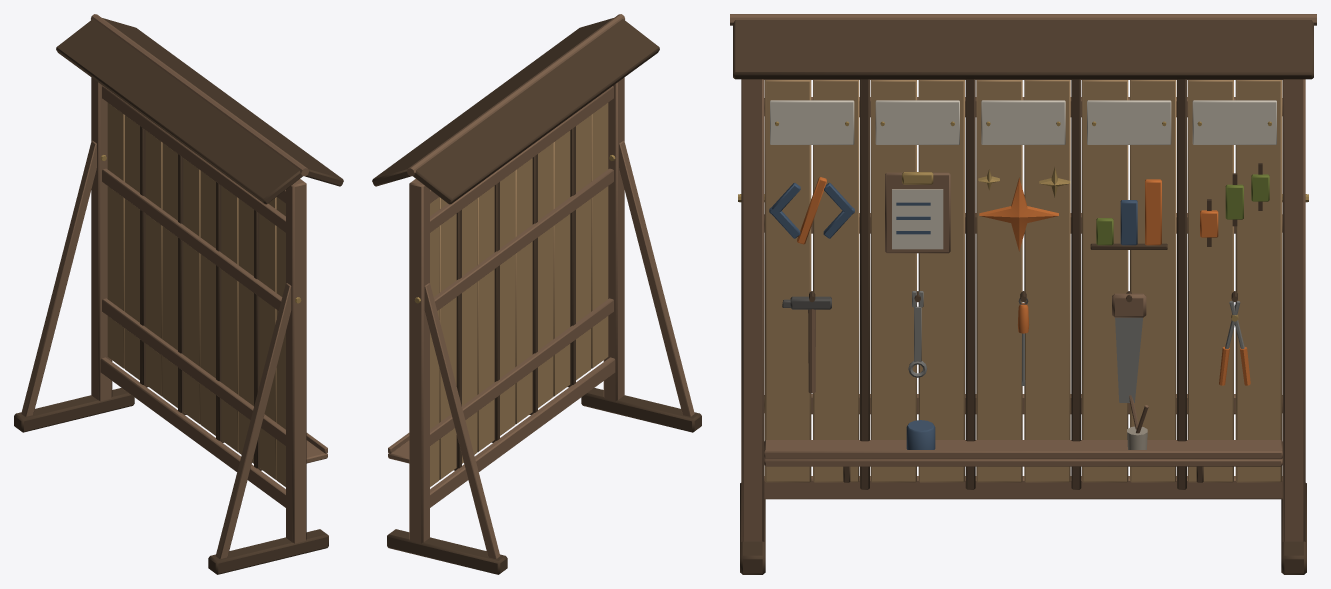
3 renders of one model, left to right at view 1: azimuth 30°, elevation 25°; view 2: azimuth 150°, elevation 25°; view 3: azimuth 270°, elevation 25°, orthographic. The views are drawn at different scales.
Visible parts, largest first — view 1: C11_body; view 2: C11_body; view 3: C11_body, C11_tools.
Boxes of the visible parts, x1,y1,x2,y2 form: C11_body: (14, 14, 343, 574); C11_body: (372, 14, 701, 574); C11_body: (730, 14, 1316, 574); C11_tools: (782, 291, 1250, 402).
Size of the model in its own units: 0.7082 by 2.1 by 2.06.
